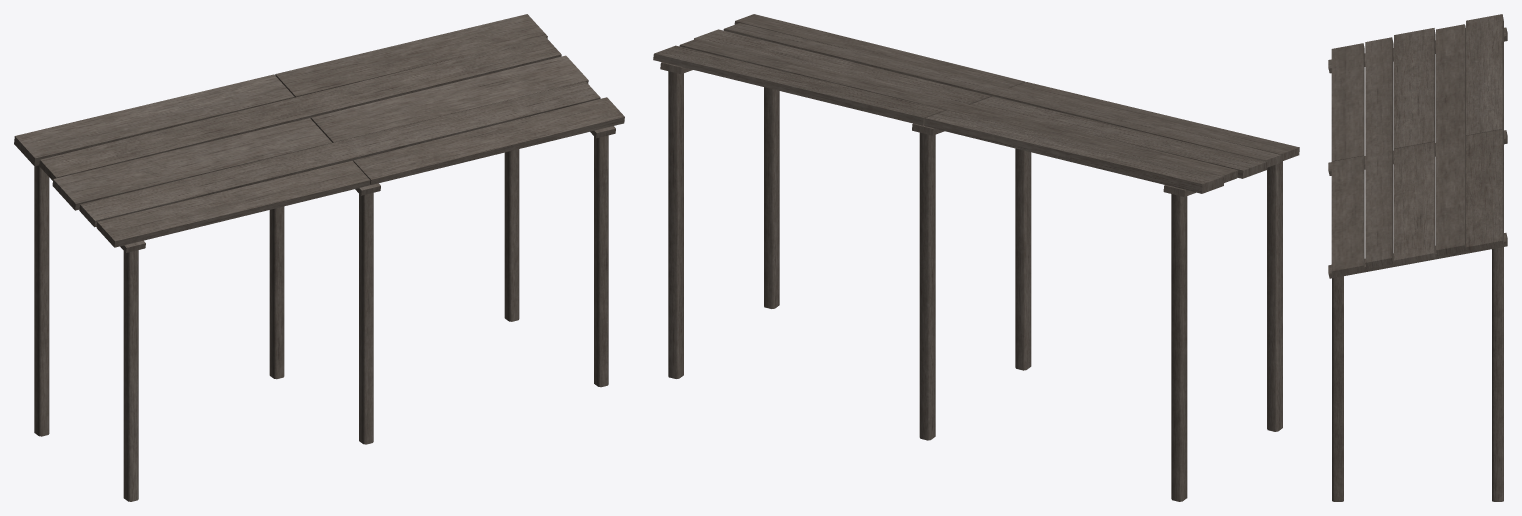
The model's file is woodRoof2.fbx.
The picture shows the model from 3 angles, left to right: view 1: azimuth 30°, elevation 25°; view 2: azimuth 150°, elevation 25°; view 3: azimuth 270°, elevation 25°; orthographic projection. The views are drawn at different scales.
Visible parts, largest first — view 1: woodRoof2; view 2: woodRoof2; view 3: woodRoof2.
Part boxes in pixels (x1,y1,x2,y2): woodRoof2: (14, 14, 624, 501); woodRoof2: (653, 14, 1299, 501); woodRoof2: (1328, 14, 1507, 501).
Size of the model in its own units: 657 by 368 by 221.
